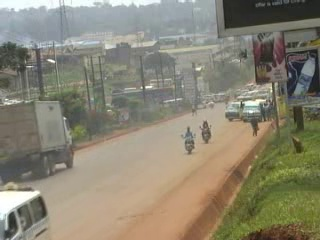Motorcycle: (179, 123, 196, 155), (198, 117, 212, 144), (206, 97, 216, 110)
